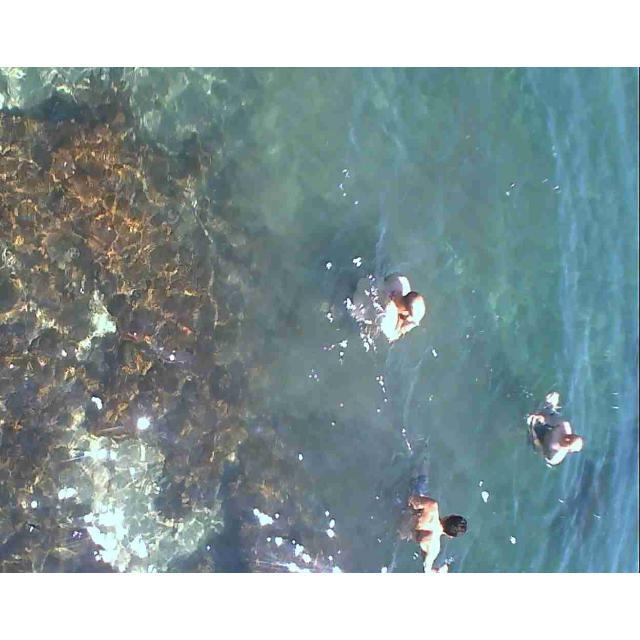human: (352, 272, 427, 353), (526, 388, 582, 474)
